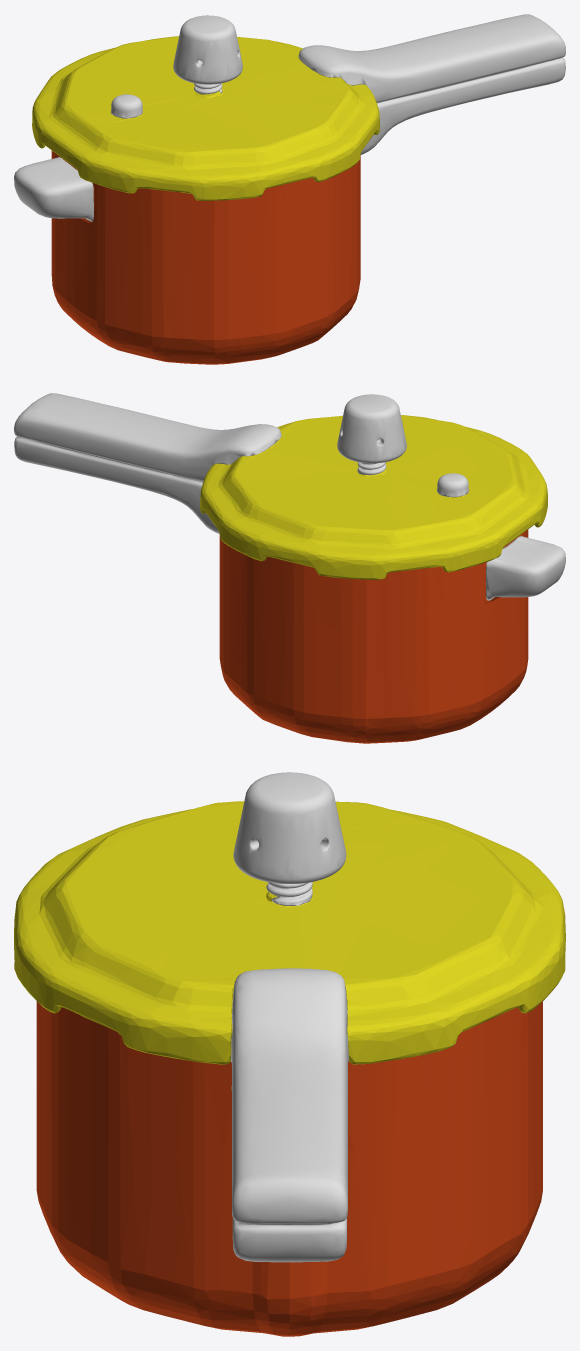
The model's file is MDL_PanelaPressao.fbx.
3 views of the same model, one above another, from view 1: azimuth 30°, elevation 25°; view 2: azimuth 150°, elevation 25°; view 3: azimuth 270°, elevation 25° (orthographic). The views are drawn at different scales.
Parts seen in each view (by area): view 1: model_part5.003, model_part0.028, model_part2.016; view 2: model_part5.003, model_part0.028, model_part2.016; view 3: model_part5.003, model_part0.028, model_part2.016.
Part boxes in pixels (left/top/right/bottom): model_part5.003: left=32, top=36, right=380, bottom=364; model_part0.028: left=14, top=14, right=565, bottom=221; model_part2.016: left=111, top=15, right=242, bottom=118; model_part5.003: left=200, top=415, right=547, bottom=743; model_part0.028: left=14, top=393, right=565, bottom=600; model_part2.016: left=337, top=394, right=469, bottom=497; model_part5.003: left=14, top=801, right=565, bottom=1336; model_part0.028: left=231, top=968, right=348, bottom=1262; model_part2.016: left=233, top=772, right=346, bottom=905.
Size of the model in its own units: 157 by 83.15 by 88.06.
